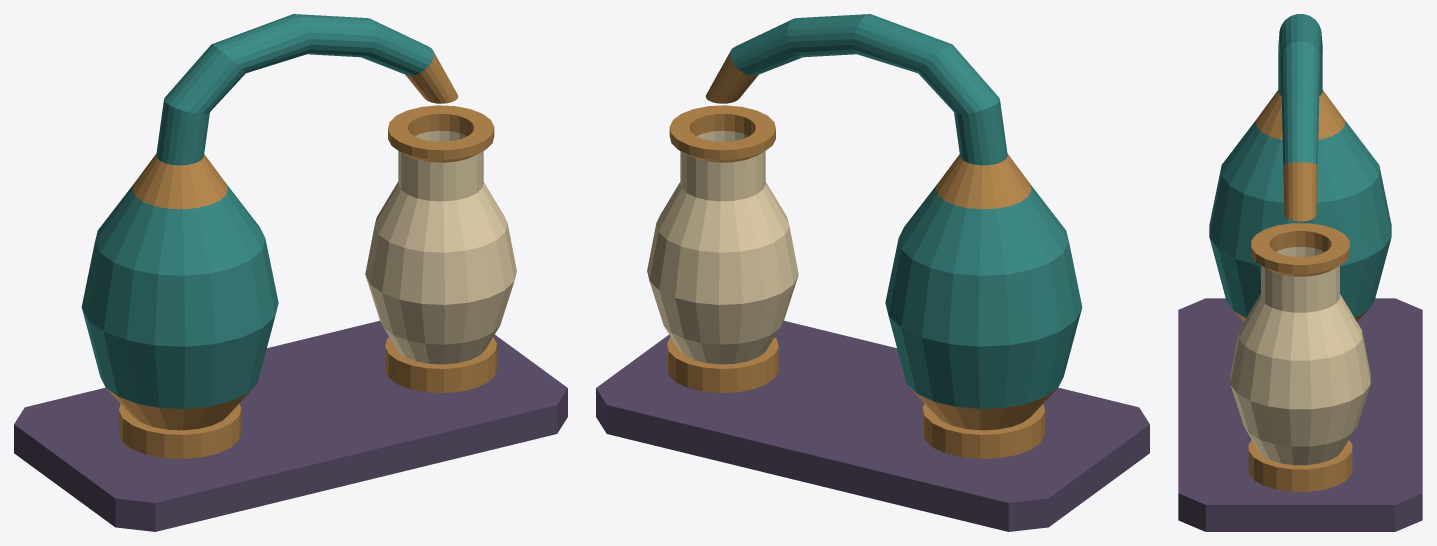
3 renders of one model, left to right at view 1: azimuth 30°, elevation 25°; view 2: azimuth 150°, elevation 25°; view 3: azimuth 270°, elevation 25°, orthographic. The views are drawn at different scales.
Visible parts, largest first — view 1: ContinuousSwanNeckRetort, ChamferedDisplayPlinth, ThickOpenReceiver, RetortPolygonalSeat, ReceiverPolygonalSeat; view 2: ContinuousSwanNeckRetort, ChamferedDisplayPlinth, ThickOpenReceiver, RetortPolygonalSeat, ReceiverPolygonalSeat; view 3: ChamferedDisplayPlinth, ContinuousSwanNeckRetort, ThickOpenReceiver, ReceiverPolygonalSeat.
Part boxes in pixels (<box>): ContinuousSwanNeckRetort: <box>81,14,458,430</box>; ChamferedDisplayPlinth: <box>14,320,567,531</box>; ThickOpenReceiver: <box>365,105,516,364</box>; RetortPolygonalSeat: <box>119,404,241,458</box>; ReceiverPolygonalSeat: <box>385,337,496,392</box>; ContinuousSwanNeckRetort: <box>705,14,1082,430</box>; ChamferedDisplayPlinth: <box>596,320,1149,531</box>; ThickOpenReceiver: <box>647,105,798,364</box>; RetortPolygonalSeat: <box>922,404,1044,458</box>; ReceiverPolygonalSeat: <box>667,337,778,392</box>; ChamferedDisplayPlinth: <box>1178,298,1422,531</box>; ContinuousSwanNeckRetort: <box>1209,14,1391,321</box>; ThickOpenReceiver: <box>1230,223,1370,465</box>; ReceiverPolygonalSeat: <box>1248,440,1352,491</box>.
Size of the model in its own units: 1.96 by 1.73 by 0.98.
